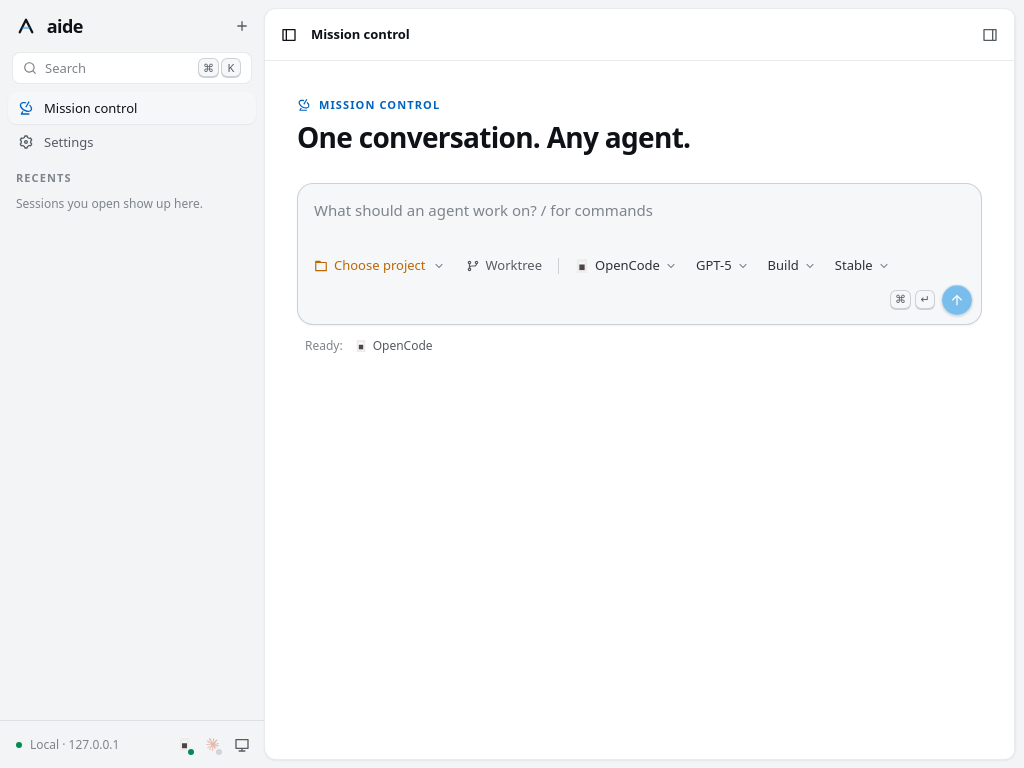
Test case: App › navigates to settings from the sidebar
The width and height of the screenshot is (1024, 768).
Click the button "Settings".
click(132, 142)  # box [8, 126, 256, 158]
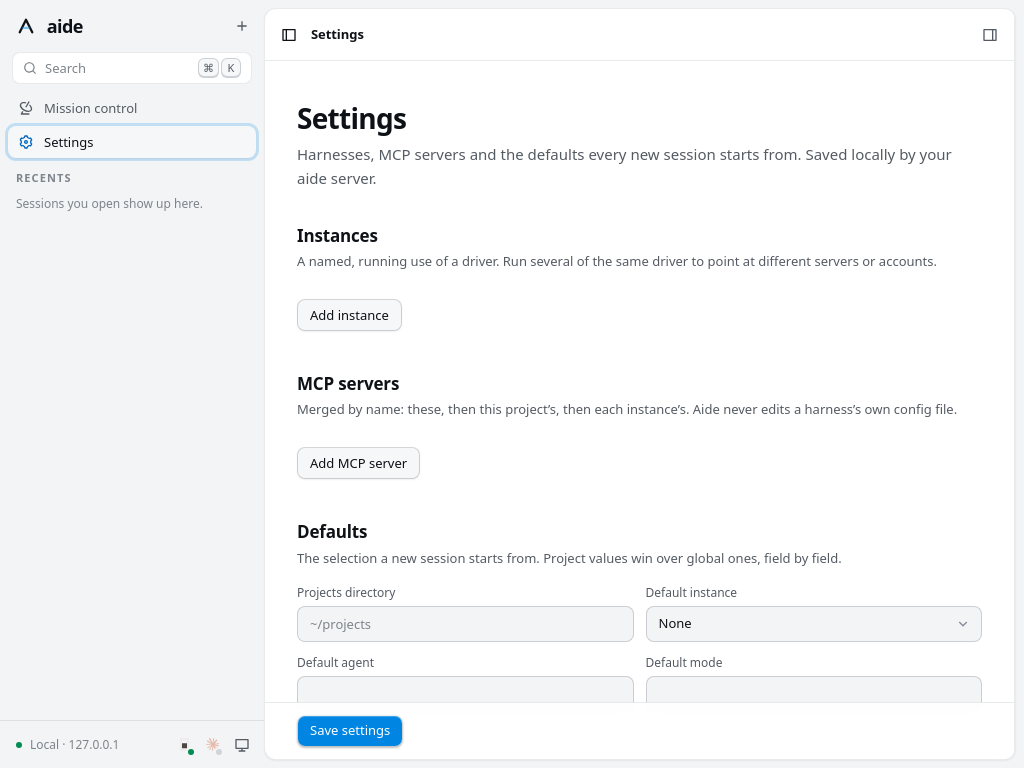
Result: the button "Save settings" is shown at [297, 715, 403, 747]
